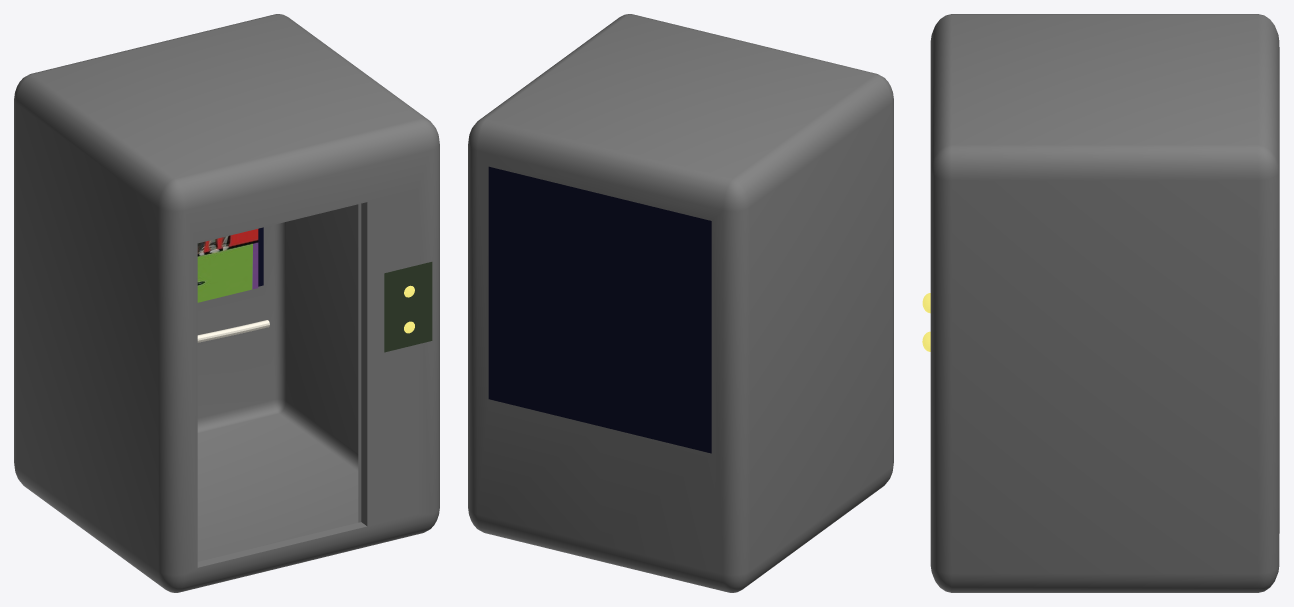
The model's file is elevator.glb.
The picture shows the model from 3 angles, left to right: view 1: azimuth 30°, elevation 25°; view 2: azimuth 150°, elevation 25°; view 3: azimuth 270°, elevation 25°; orthographic projection. The views are drawn at different scales.
Visible parts, largest first — view 1: Elevator, Frame, Cube.011; view 2: Elevator, Frame; view 3: Elevator.
Boxes of the visible parts, x1=… form: Elevator: x1=14, y1=14, x2=439, y2=592; Frame: x1=197, y1=227, x2=263, y2=302; Cube.011: x1=358, y1=203, x2=361, y2=522; Elevator: x1=468, y1=14, x2=893, y2=592; Frame: x1=488, y1=166, x2=711, y2=453; Elevator: x1=922, y1=14, x2=1279, y2=592.
Bounding box in the file's own units: 1.71 × 2.42 × 1.75.
Materials: 6 (1 with a texture image).
